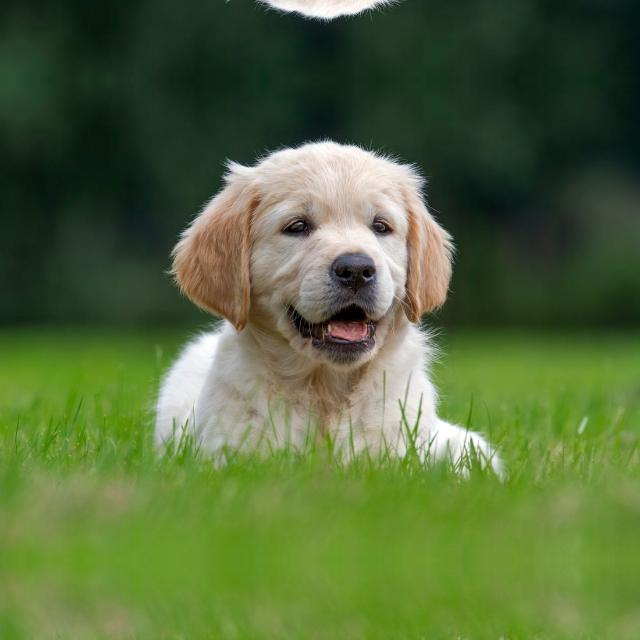dog: (166, 117, 477, 390), (165, 0, 476, 42)
